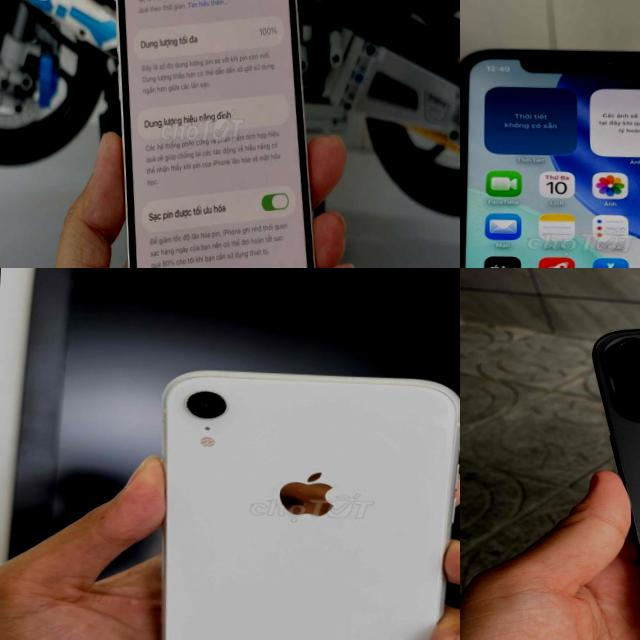gen_11: (460, 32, 640, 268)
gen_12_13: (94, 0, 337, 268)
gen_14: (571, 310, 640, 640)
gen_x_xs: (137, 361, 460, 640)
